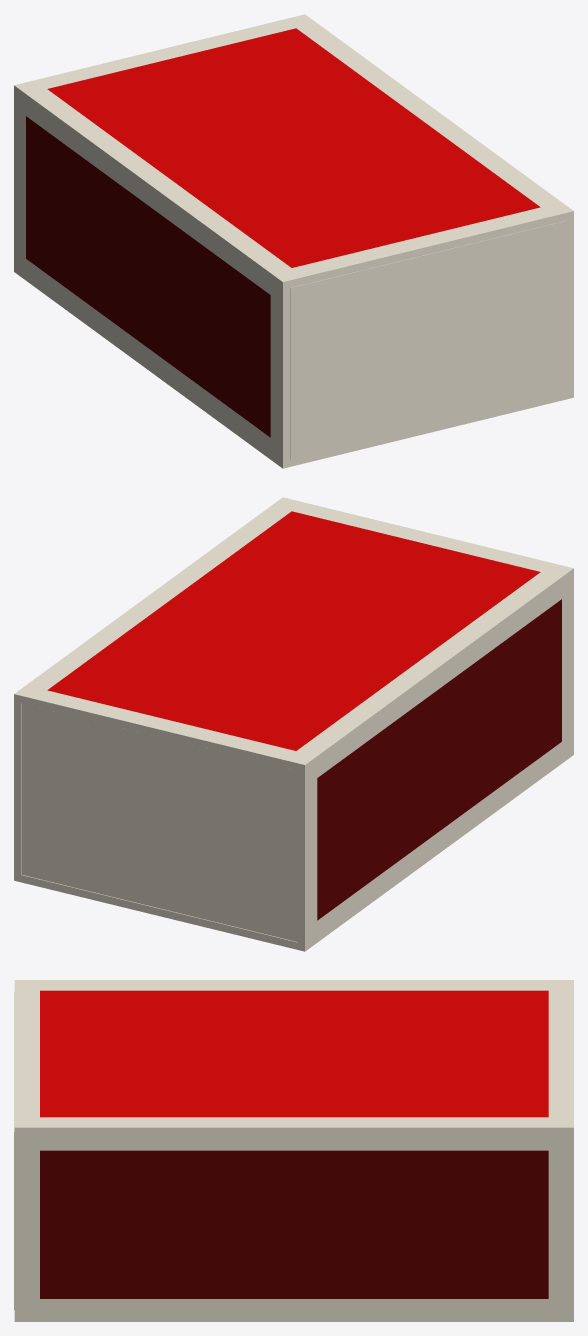
File: Matches.fbx
3 renders of one model, top to bottom at view 1: azimuth 30°, elevation 25°; view 2: azimuth 150°, elevation 25°; view 3: azimuth 270°, elevation 25°, orthographic. The views are drawn at different scales.
Parts seen in each view (by area): view 1: Matches_p1, Matches_p2; view 2: Matches_p1, Matches_p2; view 3: Matches_p1.
Part boxes in pixels (x1,y1,x2,y2): Matches_p1: [14, 14, 573, 468]; Matches_p2: [290, 220, 566, 459]; Matches_p1: [14, 497, 573, 951]; Matches_p2: [21, 703, 297, 941]; Matches_p1: [14, 980, 573, 1321].
Size of the model in its own units: 14.3 by 8.76 by 22.9.
